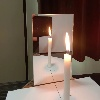fire: (65, 32, 71, 54)
